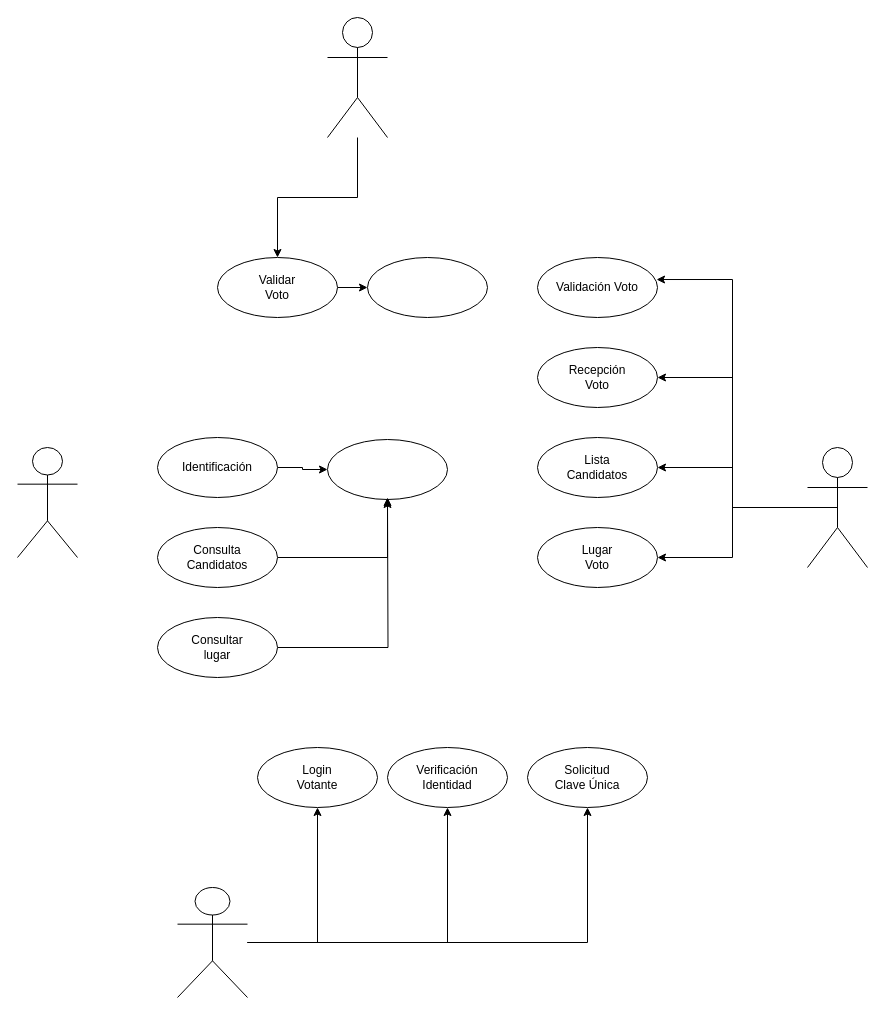
This 885x1036 diagram has some shape labels left out. Each missing label, with the centre of its shape:
Contar Voto: (427,287)
Registro Civil: (212,942)
Servel: (837,507)
Vocal Digital: (357,77)
Votación Online: (387,469)
Votante: (47,502)
